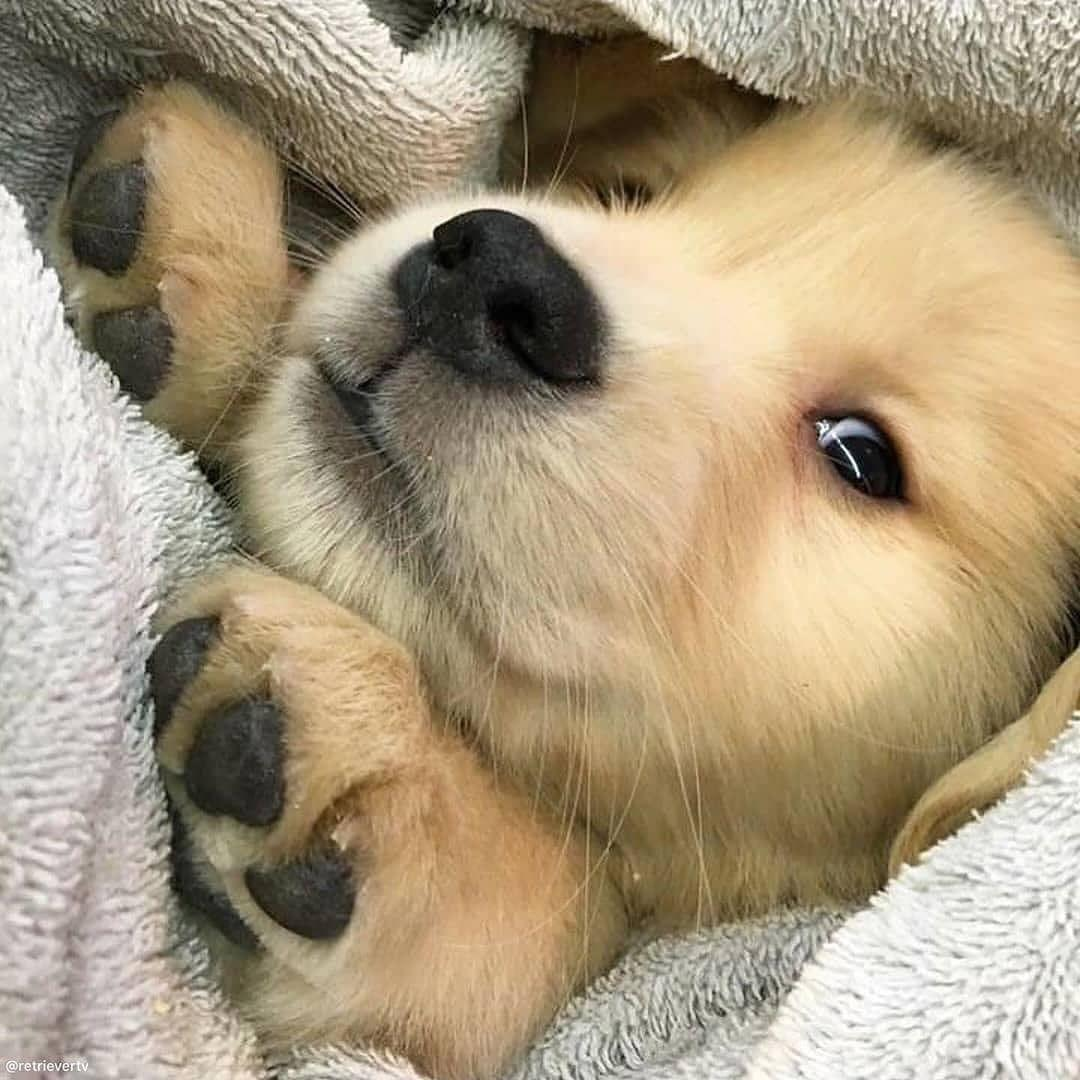puppy-dog: (49, 48, 1080, 1069)
